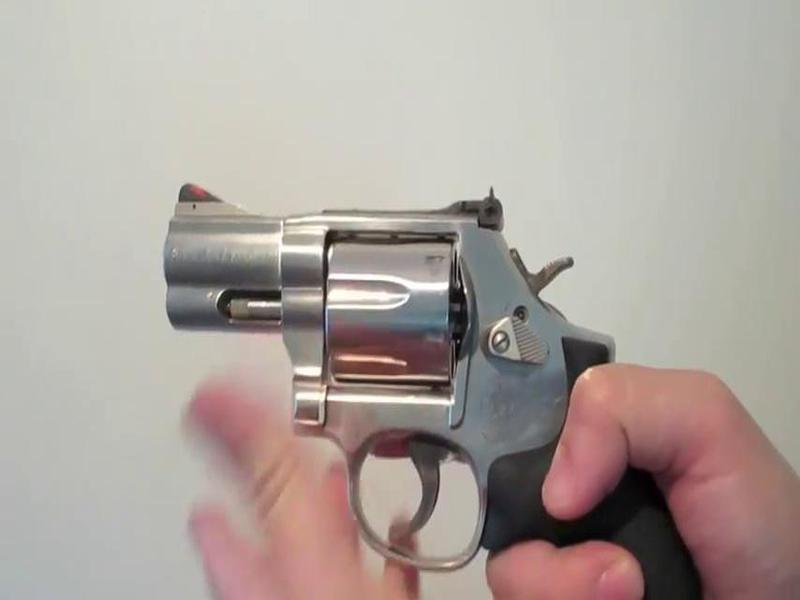Revolver: (131, 158, 646, 548)
